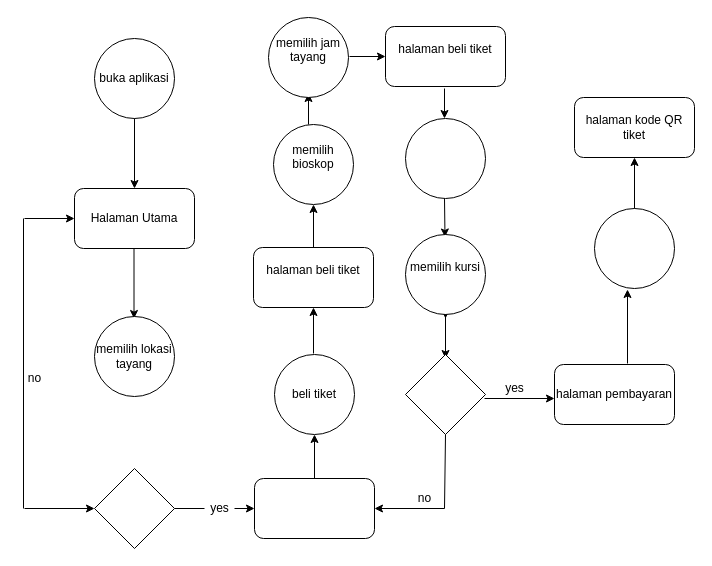
Some shapes in this 712 by 566 pixel diagram are drawn without their labels. The centre of each missing label's shape, as x and y in pixels:
halaman film: point 314,508
konfirmasi pembayaran: point 634,248
masukan jumlah tiket: point 445,158
memilih film: point 134,508
memilih metode pembayaran: point 445,394
